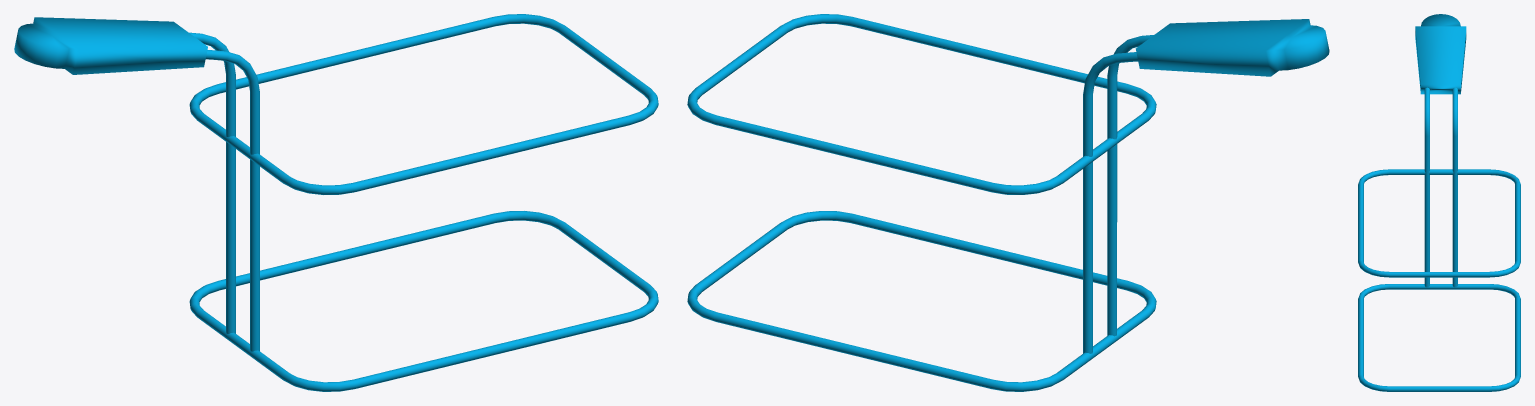
The model's file is Strainer_01_Lod0.fbx.
The picture shows the model from 3 angles, left to right: view 1: azimuth 30°, elevation 25°; view 2: azimuth 150°, elevation 25°; view 3: azimuth 270°, elevation 25°; orthographic projection. The views are drawn at different scales.
Visible parts, largest first — view 1: Strainer_01_Lod0; view 2: Strainer_01_Lod0; view 3: Strainer_01_Lod0.
Boxes of the visible parts, <box> form: Strainer_01_Lod0: <box>14,14,658,391</box>; Strainer_01_Lod0: <box>687,14,1329,391</box>; Strainer_01_Lod0: <box>1358,14,1520,391</box>.
Bounding box in the file's own units: 45.45 × 26.99 × 18.69.
